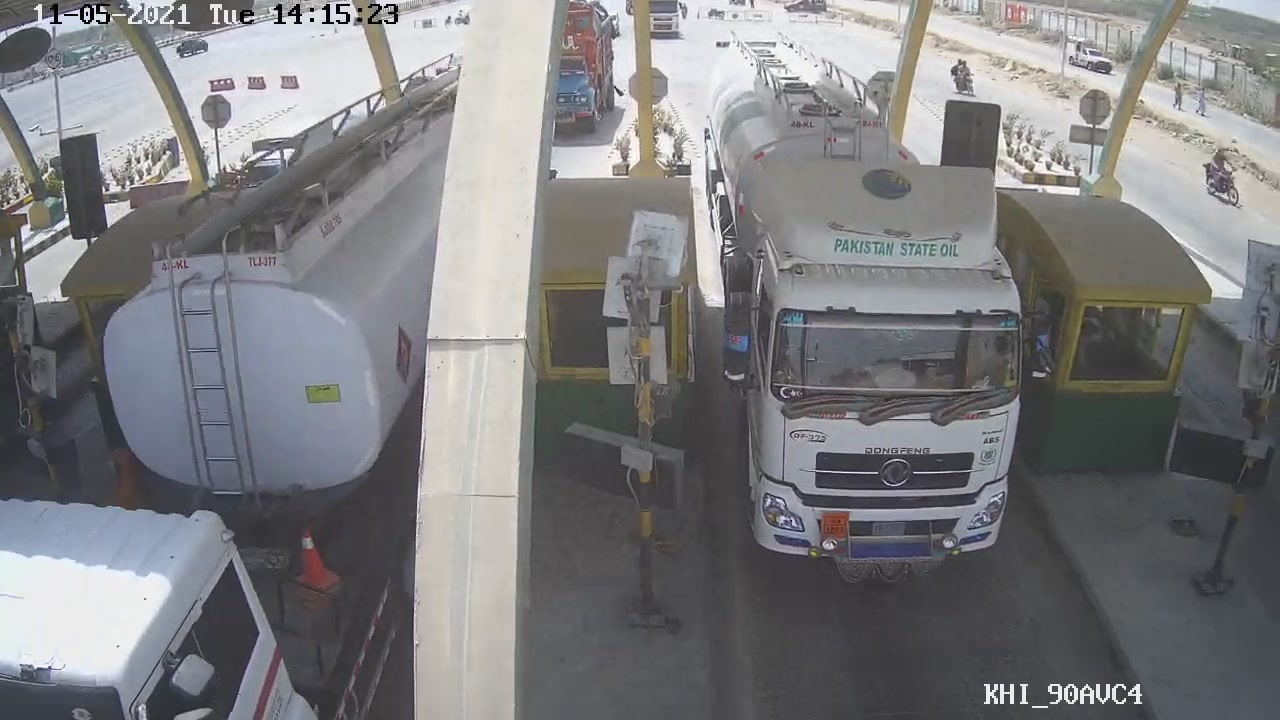F6: (694, 67, 1023, 589)
